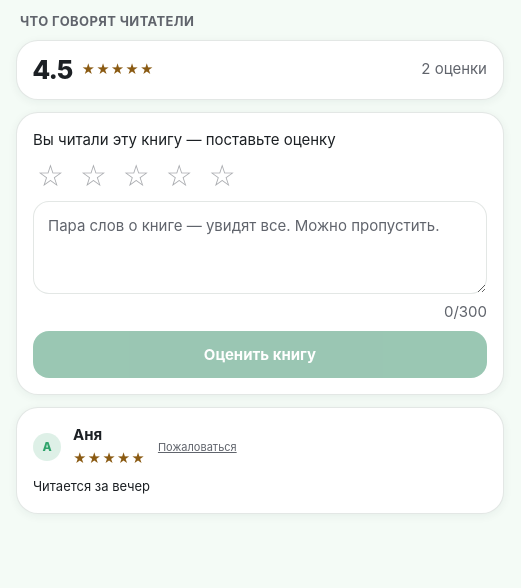
Test: оценки и аннотации в карточке книги › ссылку в отзыве сервер не принимает — человек видит понятную причину
The width and height of the screenshot is (521, 588).
Check: the button "Оценить книгу" is shown, box [33, 331, 487, 378]
Click the button named "Оценка 3 из 5".
click(136, 176)  # box [119, 159, 154, 193]
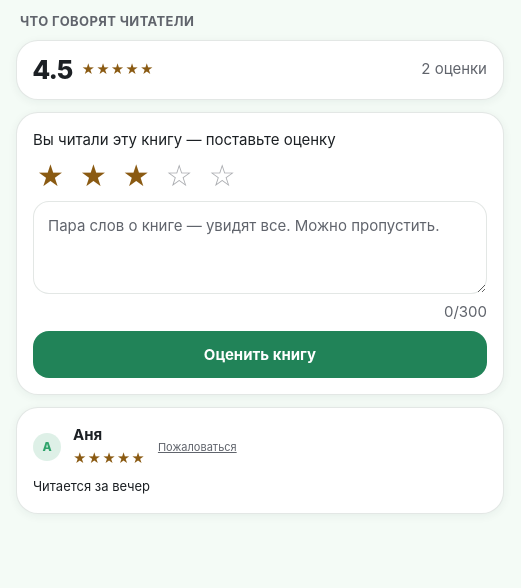
Click the button "Оценить книгу".
click(260, 355)  # box [33, 331, 487, 378]
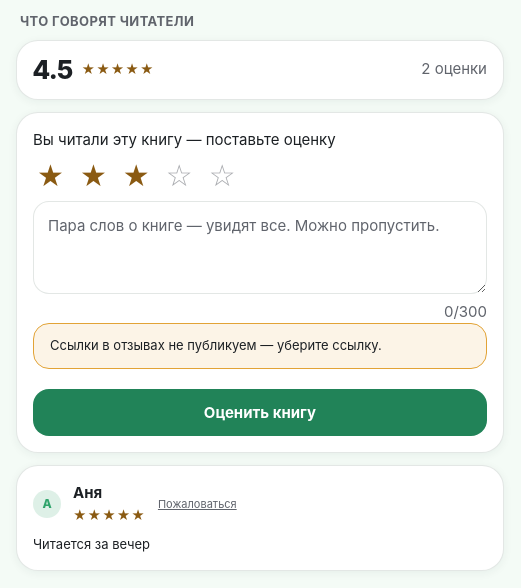
Check: the text "Ссылки в отзывах не публикуем — уберите ссылку." is shown, box [33, 323, 487, 369]
